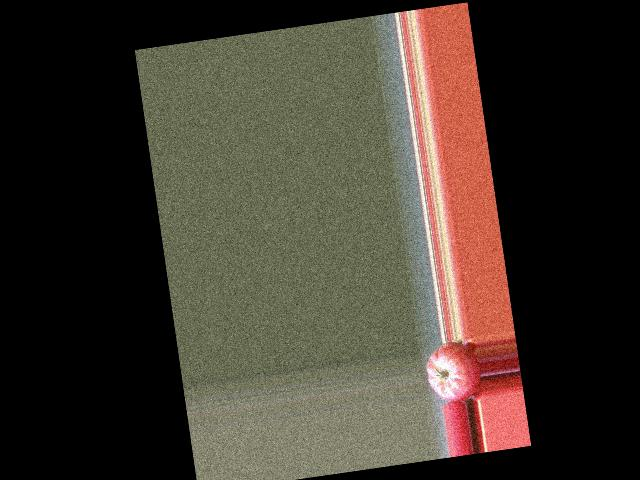tomato: (423, 337, 484, 404)
